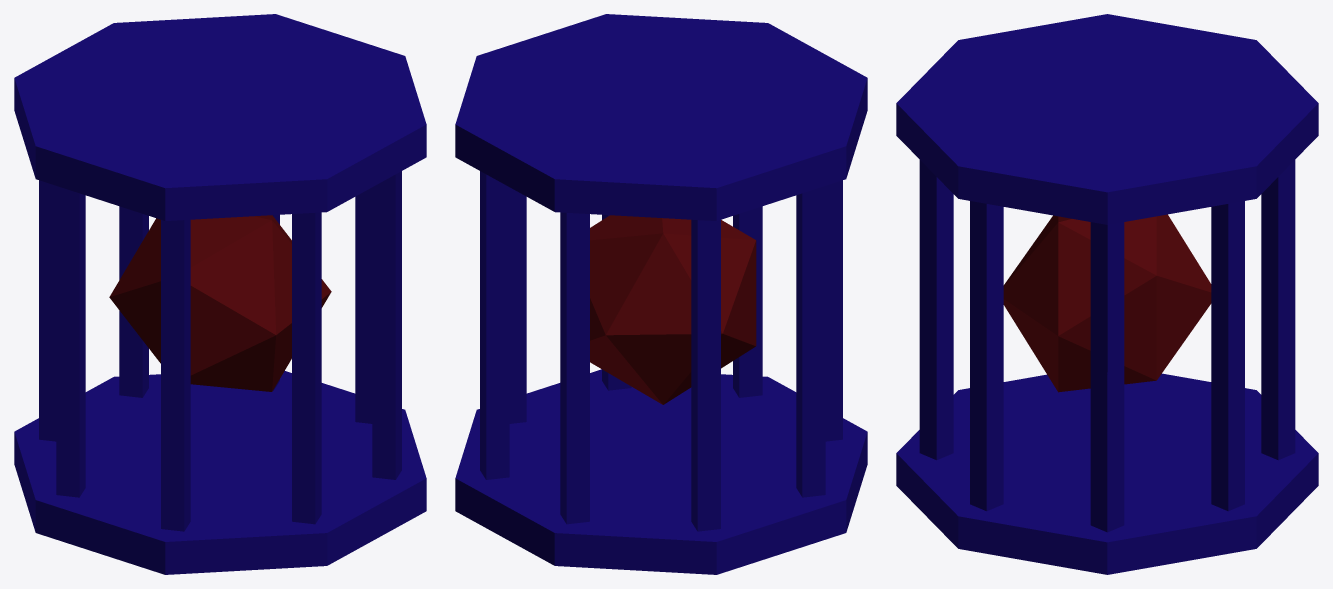
Rendered from 18_DarkMatter.fbx.
The picture shows the model from 3 angles, left to right: view 1: azimuth 30°, elevation 25°; view 2: azimuth 150°, elevation 25°; view 3: azimuth 270°, elevation 25°; orthographic projection.
Visible parts, largest first — view 1: DarkMatter; view 2: DarkMatter; view 3: DarkMatter.
Part boxes in pixels (x1,y1,x2,y2): DarkMatter: [14, 14, 426, 574]; DarkMatter: [455, 14, 867, 574]; DarkMatter: [896, 14, 1318, 574].
Size of the model in its own units: 100 by 100 by 100.
